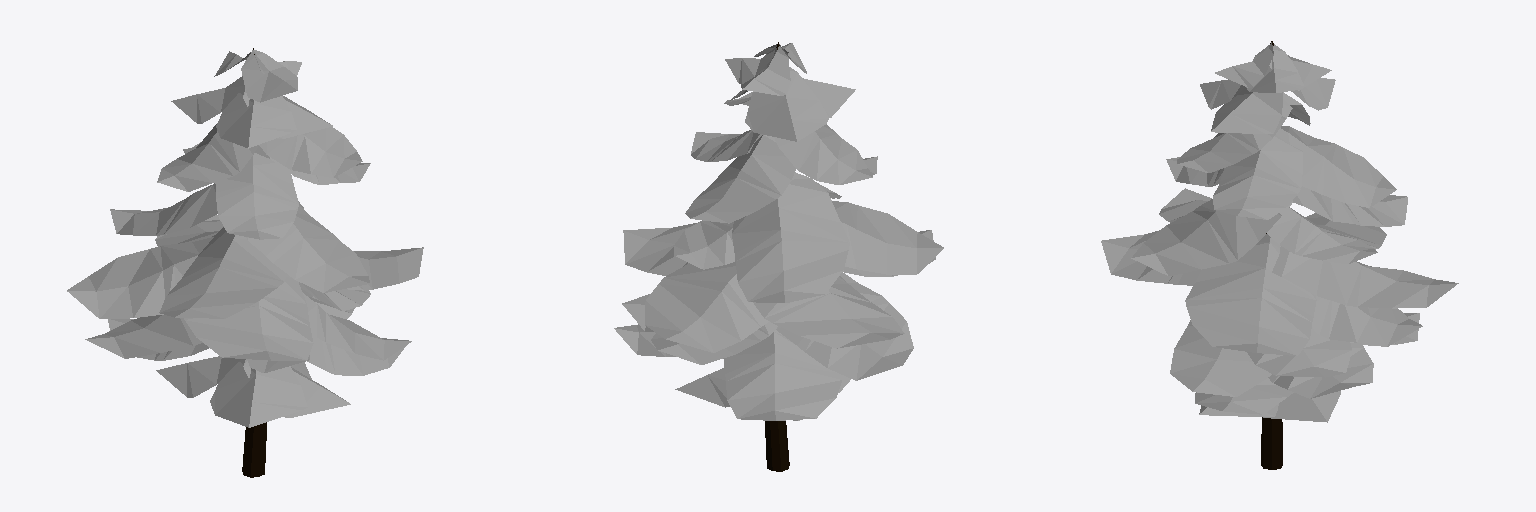
Rendered from PineTree_5.obj.
The picture shows the model from 3 angles: view 1: azimuth 30°, elevation 25°; view 2: azimuth 150°, elevation 25°; view 3: azimuth 270°, elevation 25°; orthographic projection.
Parts seen in each view (by area): view 1: PineTree_5_Cube.011; view 2: PineTree_5_Cube.011; view 3: PineTree_5_Cube.011.
Part boxes in pixels (left/top/right/bottom): PineTree_5_Cube.011: left=67, top=48, right=423, bottom=477; PineTree_5_Cube.011: left=614, top=42, right=943, bottom=471; PineTree_5_Cube.011: left=1101, top=41, right=1458, bottom=469.
Size of the model in its own units: 3.31 by 4.3 by 3.29.